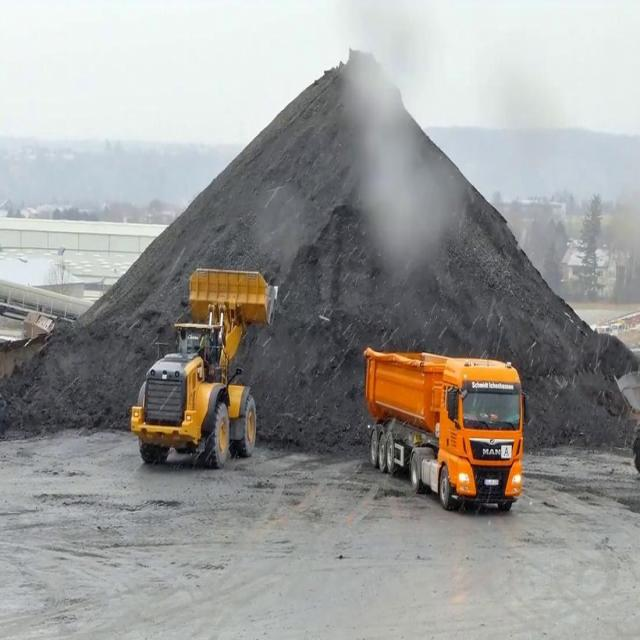Dump Truck: (362, 342, 530, 516)
Loader: (129, 265, 279, 469)
